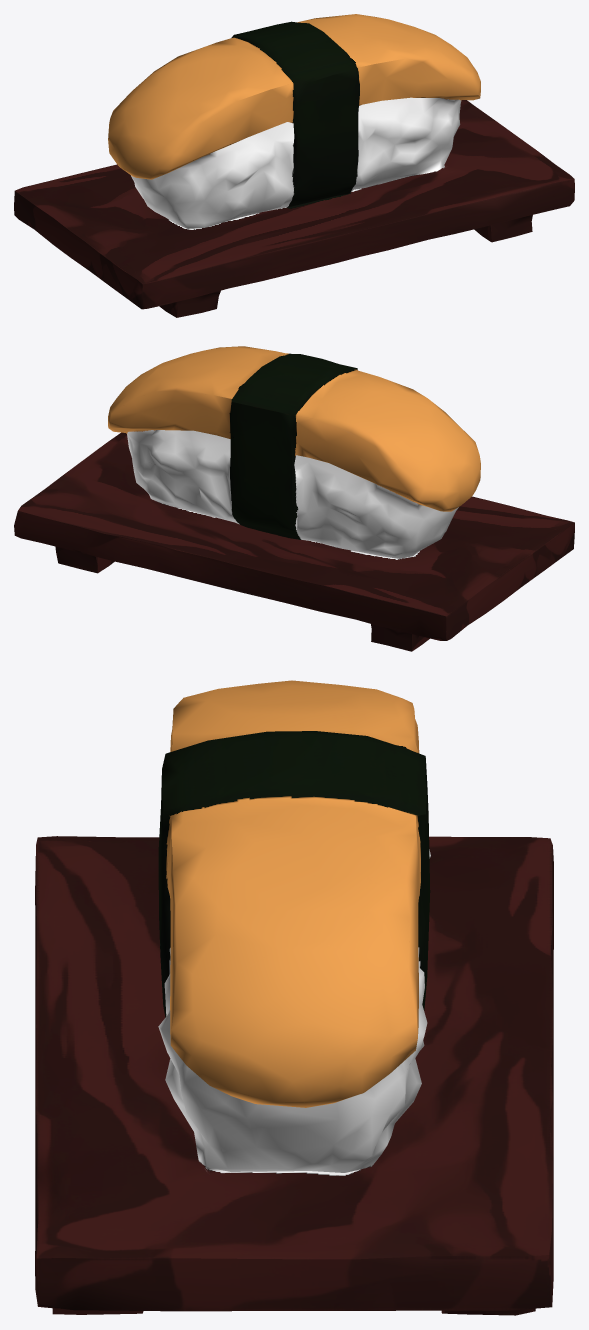
Rendered from nigiri_inari.glb.
The picture shows the model from 3 angles, top to bottom: view 1: azimuth 30°, elevation 25°; view 2: azimuth 150°, elevation 25°; view 3: azimuth 270°, elevation 25°; orthographic projection. The views are drawn at different scales.
Visible parts, largest first — view 1: world; view 2: world; view 3: world.
Part boxes in pixels (x1,y1,x2,y2): world: [14, 14, 574, 317]; world: [14, 346, 574, 651]; world: [35, 680, 553, 1315].
Bounding box in the file's own units: 1 × 0.428 × 0.5202.
Materials: 1 (1 with a texture image).
